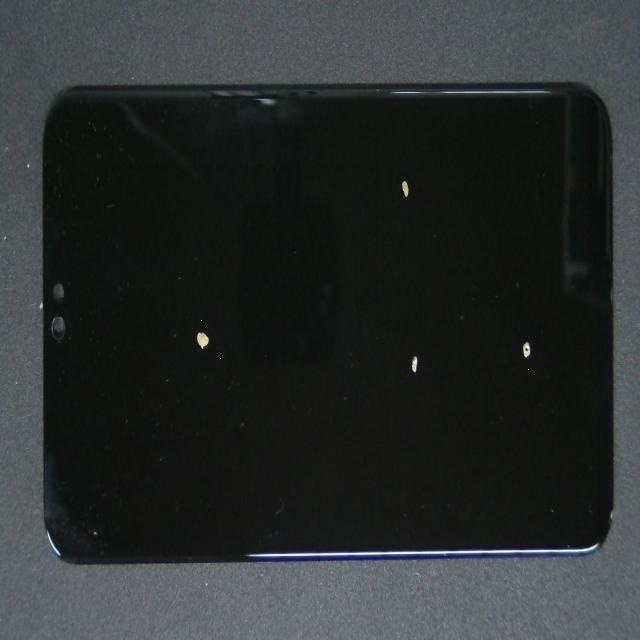stain: (187, 153, 603, 547), (254, 170, 640, 513), (201, 71, 594, 261), (94, 170, 283, 510)
